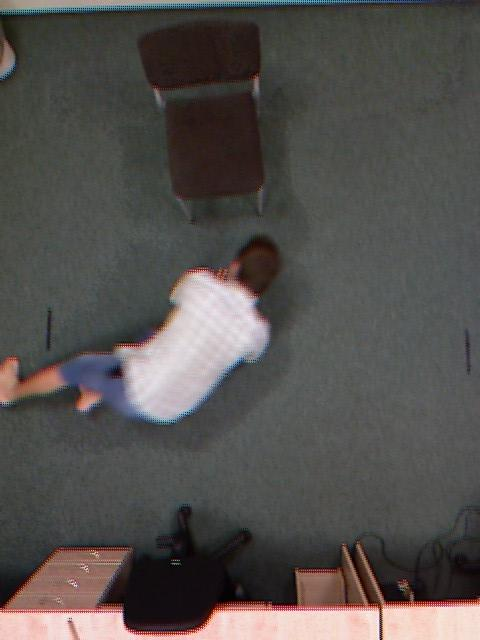fall: (63, 141, 223, 523)
